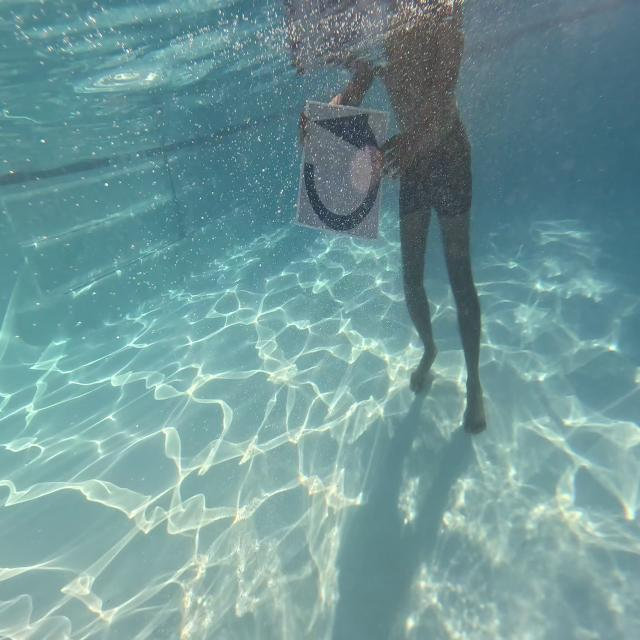blue_side: (297, 93, 391, 237)
